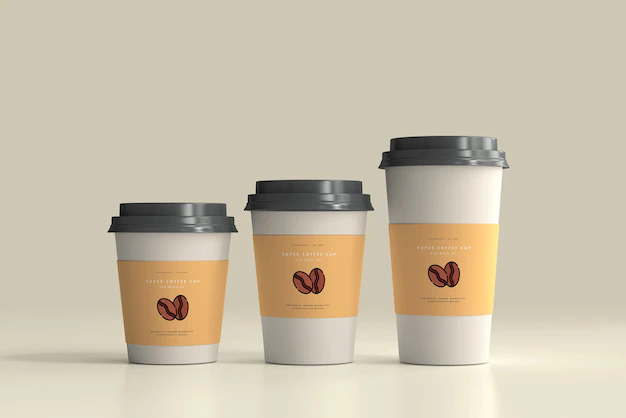cup: (378, 134, 512, 369), (244, 178, 378, 371), (104, 200, 241, 371)
